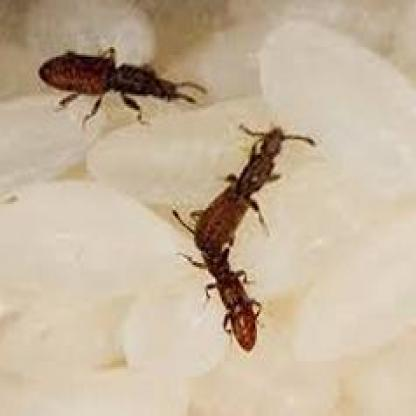rice-bug: (189, 128, 316, 354), (37, 50, 186, 110)
